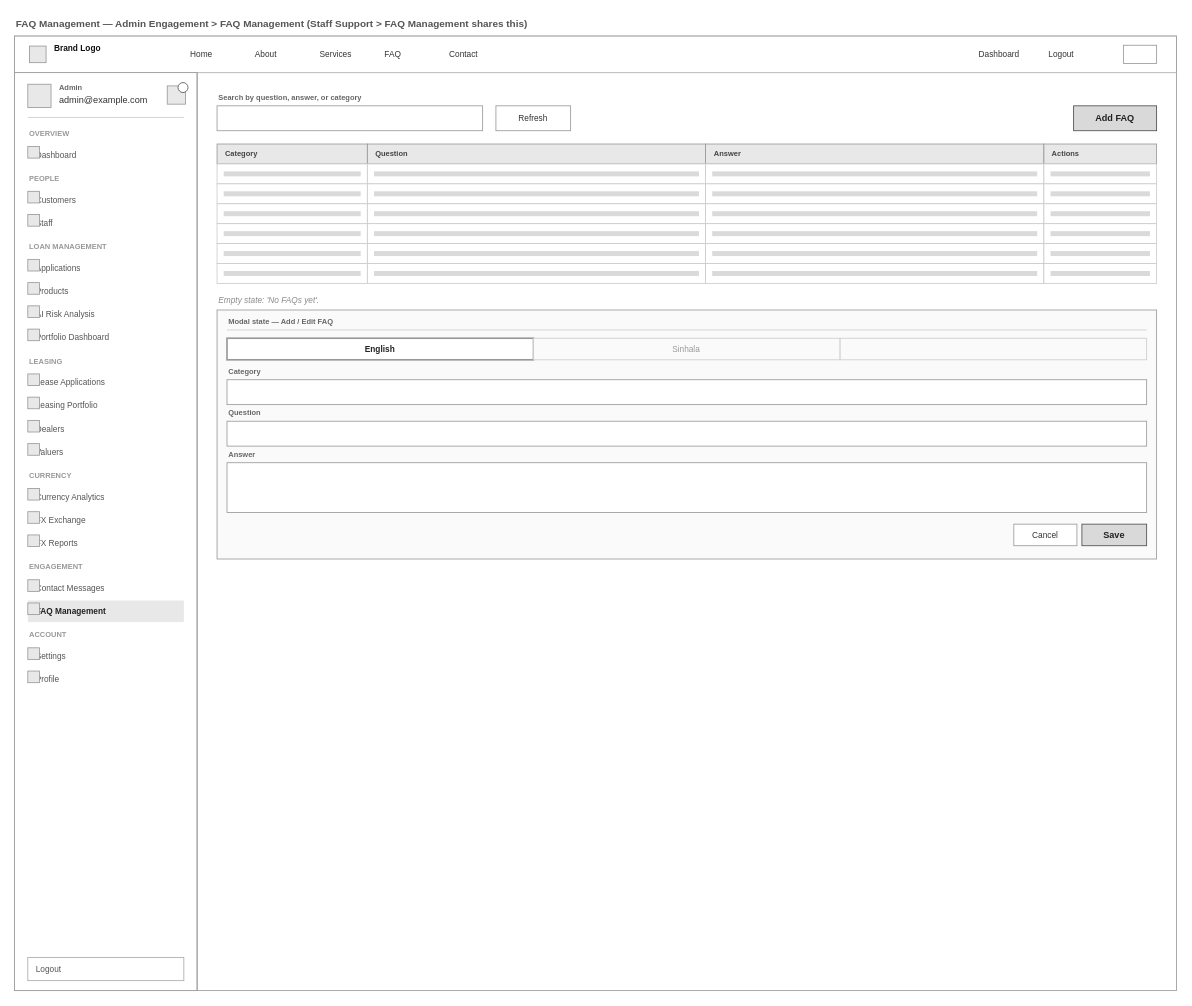
Image size: 1192x1006. Some labels were removed from this diagram. The shapes that lost their labels are listed below. From the top down, each one's centre as x and y in pixels, then its label:
At point (1140, 53): "EN ▾".
At point (993, 348): "Tamil".
At point (686, 487): "Sinhala/Tamil tabs: optional — blank falls back to English text.".
